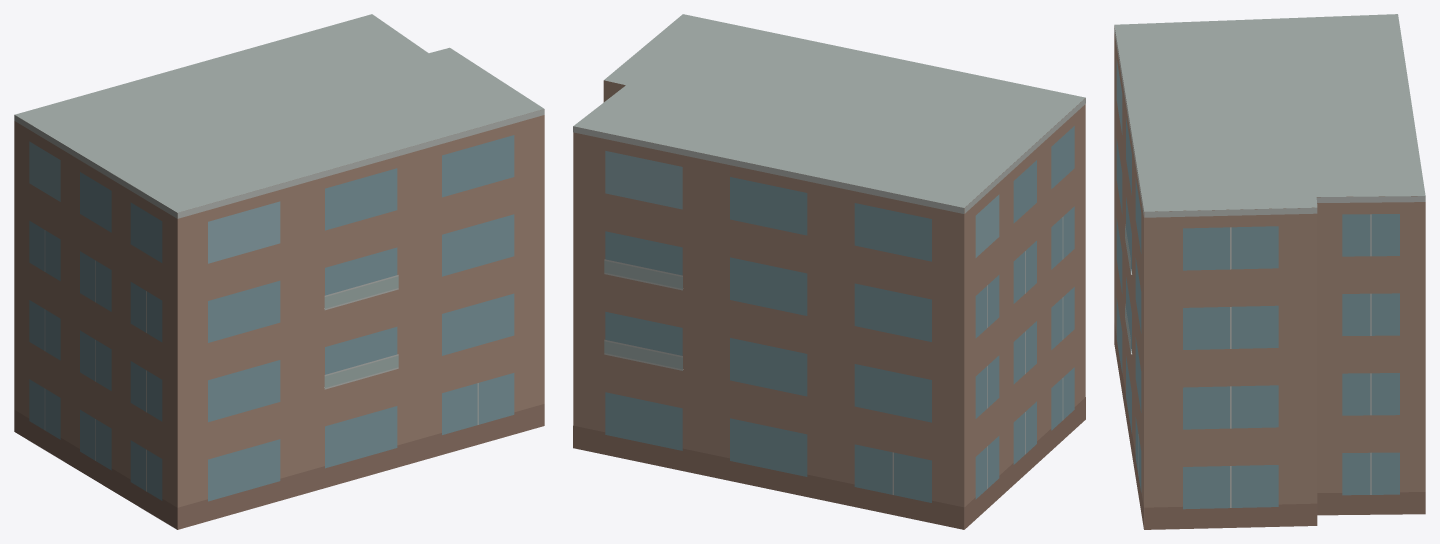
File: survey-upis-32747110.glb
The picture shows the model from 3 angles, left to right: view 1: azimuth 30°, elevation 25°; view 2: azimuth 150°, elevation 25°; view 3: azimuth 270°, elevation 25°; orthographic projection.
Visible parts, largest first — view 1: survey-upis-32747110.tmp; view 2: survey-upis-32747110.tmp; view 3: survey-upis-32747110.tmp.
Boxes of the visible parts, bbox=[...] form: survey-upis-32747110.tmp: bbox=[14, 14, 544, 529]; survey-upis-32747110.tmp: bbox=[573, 14, 1085, 529]; survey-upis-32747110.tmp: bbox=[1114, 14, 1425, 529].
Size of the model in its own units: 17.07 by 12.8 by 11.36.
